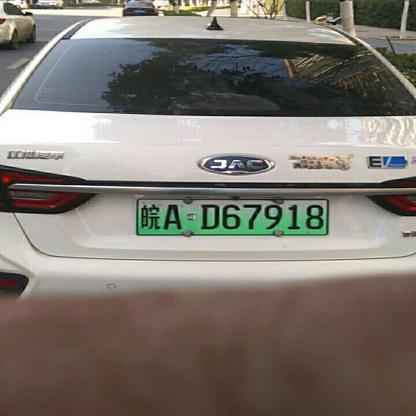lp: (138, 199, 327, 233)
